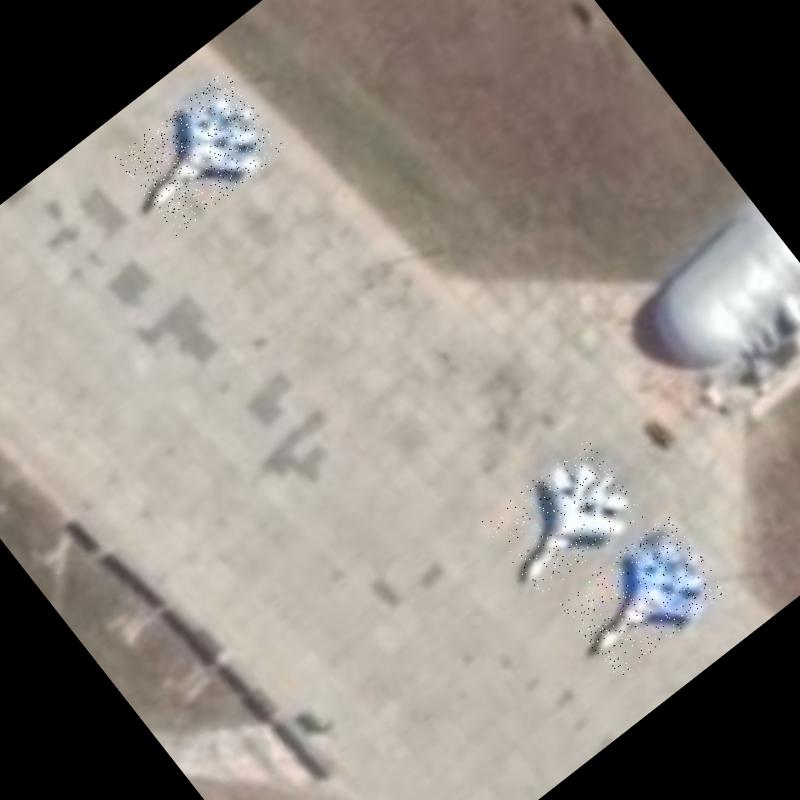A1: (556, 514, 730, 680), (114, 70, 287, 236), (480, 438, 646, 598)
